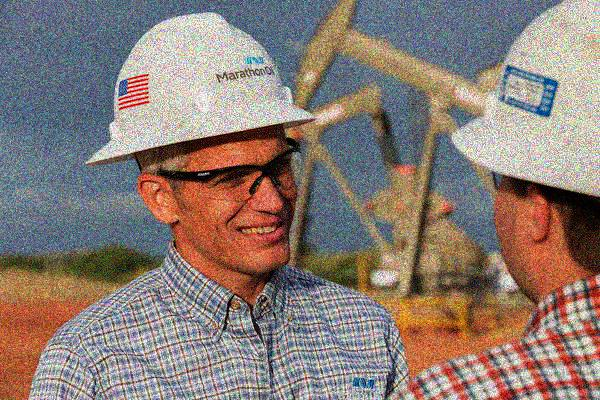helmet: (83, 11, 320, 277), (450, 1, 600, 302)
